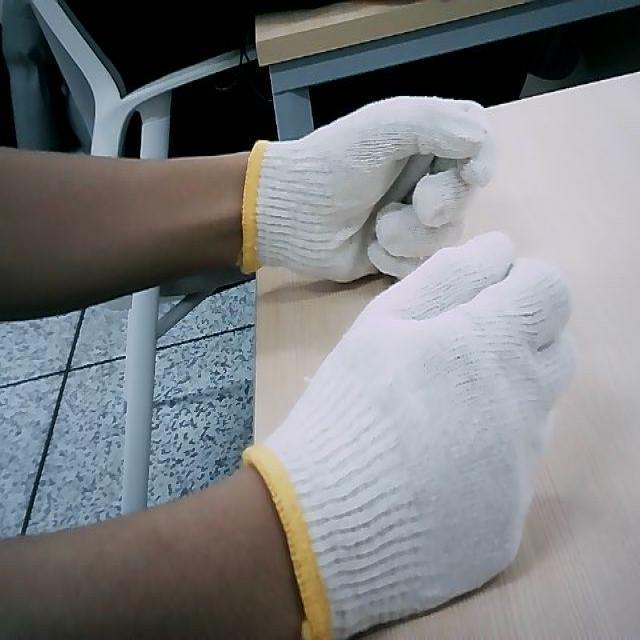gloved_hand: (242, 294, 571, 640), (240, 96, 495, 291)
